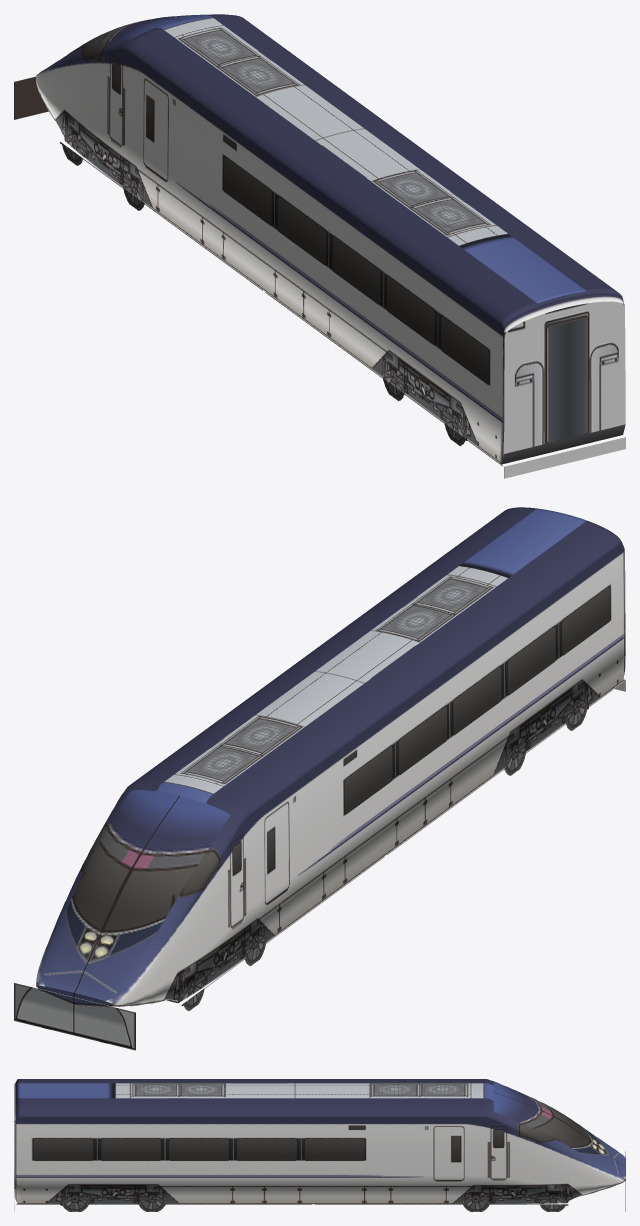
File: car2.glb
3 views of the same model, one above another, from view 1: azimuth 30°, elevation 25°; view 2: azimuth 150°, elevation 25°; view 3: azimuth 270°, elevation 25° (orthographic). The views are drawn at different scales.
Parts seen in each view (by area): view 1: keisei-ae-car2; view 2: keisei-ae-car2; view 3: keisei-ae-car2.
Part boxes in pixels (x1=…): keisei-ae-car2: x1=14, y1=14, x2=625, y2=478; keisei-ae-car2: x1=14, y1=507, x2=625, y2=1050; keisei-ae-car2: x1=14, y1=1079, x2=625, y2=1211.
Size of the model in its own units: 2.79 by 3.64 by 19.53.
8 materials, 7 textured.
